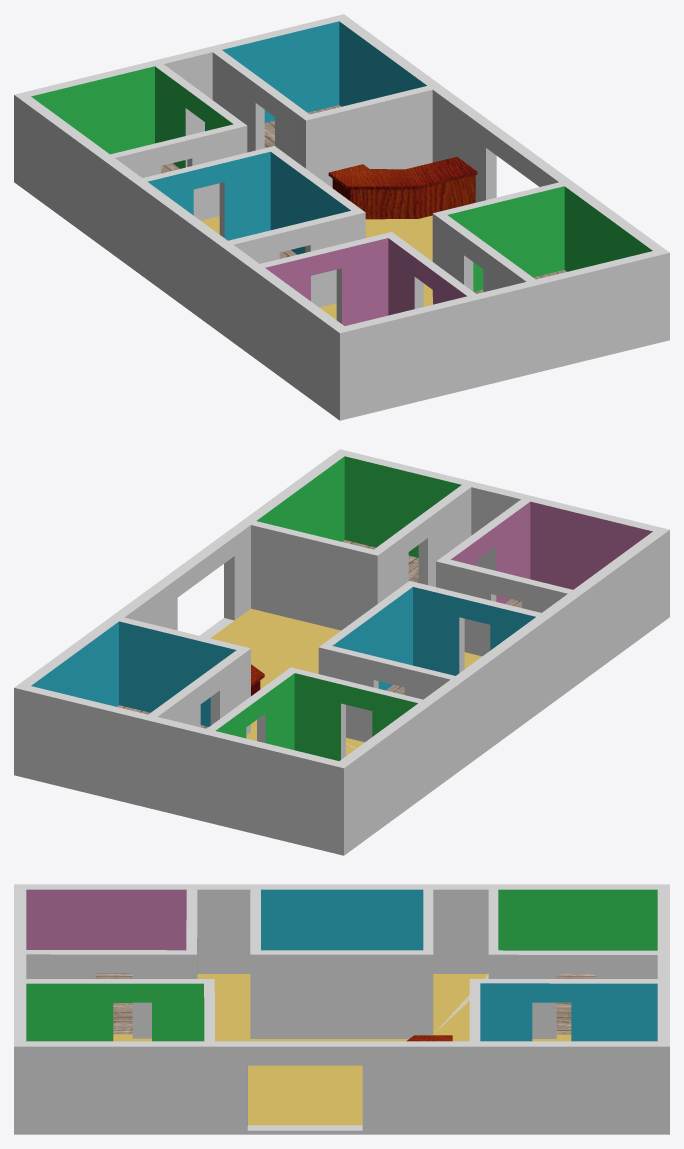
File: walls.dae
3 views of the same model, one above another, from view 1: azimuth 30°, elevation 25°; view 2: azimuth 150°, elevation 25°; view 3: azimuth 270°, elevation 25° (orthographic).
Visible parts, largest first — view 1: Walls-col, Table-col; view 2: Walls-col; view 3: Walls-col.
Boxes of the visible parts, left/top/right/bottom form: Walls-col: left=14, top=14, right=669, bottom=420; Table-col: left=328, top=157, right=477, bottom=219; Walls-col: left=14, top=449, right=669, bottom=855; Walls-col: left=14, top=884, right=669, bottom=1134.
Size of the model in its own units: 18.2 by 31.13 by 4.61.
